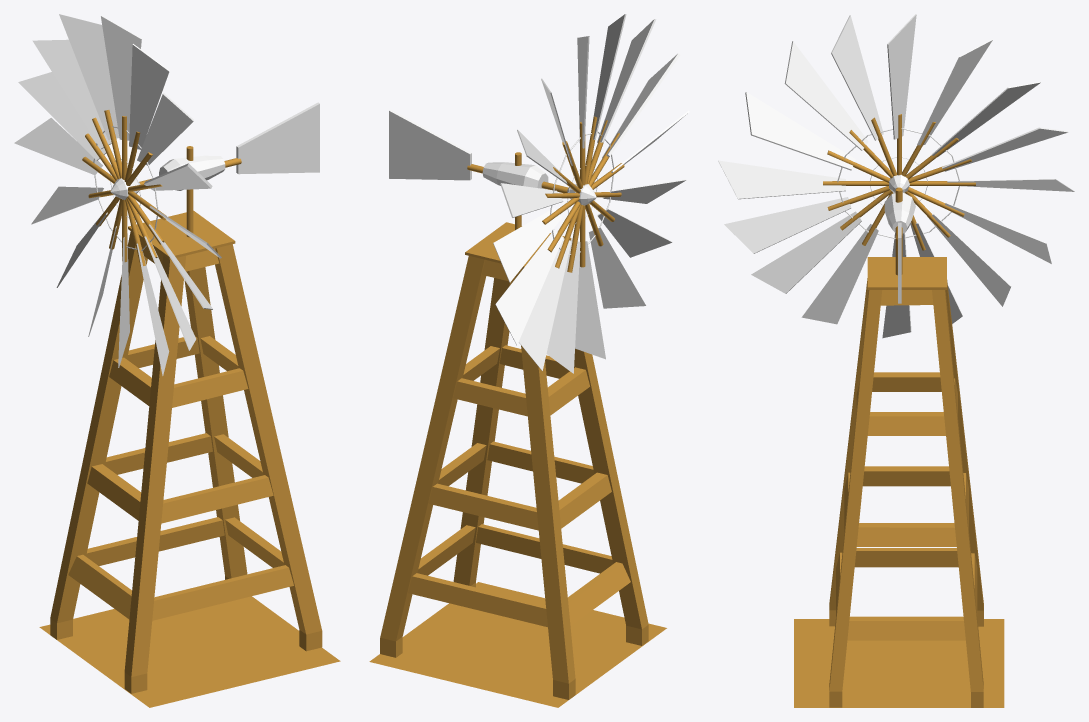
The model's file is WINDMILL 1.fbx.
The picture shows the model from 3 angles, left to right: view 1: azimuth 30°, elevation 25°; view 2: azimuth 150°, elevation 25°; view 3: azimuth 270°, elevation 25°; orthographic projection. The views are drawn at different scales.
Visible parts, largest first — view 1: Plane, Cube.004, Cube.003, Cube.005, Cube.002, Plane.001, Cube.008, Plane.014, Cube.009, Plane.006, Plane.010, Plane.002 (+26 smaller); view 2: Plane, Cube.002, Cube.005, Cube.004, Cube.003, Plane.001, Cube.007, Plane.016, Cube.015, Plane.004, Plane.011, Cube.008 (+26 smaller); view 3: Plane, Cube.003, Cube.002, Cube.004, Plane.008, Cube.006, Plane.017, Plane.012, Plane.007, Plane.005, Cube.021, Plane.015 (+22 smaller).
Boxes of the visible parts, left/top/right/bottom form: Plane: left=39, top=596, right=340, bottom=707; Cube.004: left=68, top=255, right=185, bottom=693; Cube.003: left=215, top=244, right=322, bottom=651; Cube.005: left=50, top=231, right=147, bottom=639; Cube.002: left=184, top=267, right=247, bottom=579; Plane.001: left=236, top=102, right=319, bottom=174; Cube.008: left=152, top=565, right=293, bottom=620; Plane.014: left=59, top=14, right=119, bottom=140; Cube.009: left=161, top=475, right=273, bottom=523; Plane.006: left=32, top=39, right=111, bottom=148; Plane.010: left=129, top=44, right=169, bottom=149; Plane.002: left=101, top=15, right=141, bottom=140; Plane: left=369, top=582, right=666, bottom=707; Cube.002: left=380, top=256, right=486, bottom=657; Cube.005: left=514, top=268, right=575, bottom=699; Cube.004: left=567, top=348, right=648, bottom=645; Cube.003: left=453, top=278, right=512, bottom=587; Plane.001: left=389, top=109, right=471, bottom=180; Cube.007: left=408, top=573, right=547, bottom=627; Plane.016: left=495, top=229, right=563, bottom=345; Cube.015: left=428, top=483, right=538, bottom=530; Plane.004: left=519, top=238, right=571, bottom=370; Plane.011: left=546, top=240, right=580, bottom=373; Cube.008: left=476, top=524, right=613, bottom=573; Plane: left=794, top=619, right=1004, bottom=707; Cube.003: left=829, top=290, right=882, bottom=707; Cube.002: left=932, top=290, right=983, bottom=707; Cube.004: left=829, top=278, right=958, bottom=626; Plane.008: left=718, top=160, right=845, bottom=199; Cube.006: left=847, top=616, right=965, bottom=640; Plane.017: left=745, top=92, right=855, bottom=170; Plane.012: left=724, top=197, right=851, bottom=253; Plane.007: left=751, top=211, right=861, bottom=293; Plane.005: left=784, top=41, right=868, bottom=150; Cube.021: left=867, top=257, right=946, bottom=289; Plane.015: left=801, top=223, right=878, bottom=324.
Bounding box in the file's own units: 235 × 642 × 339.
